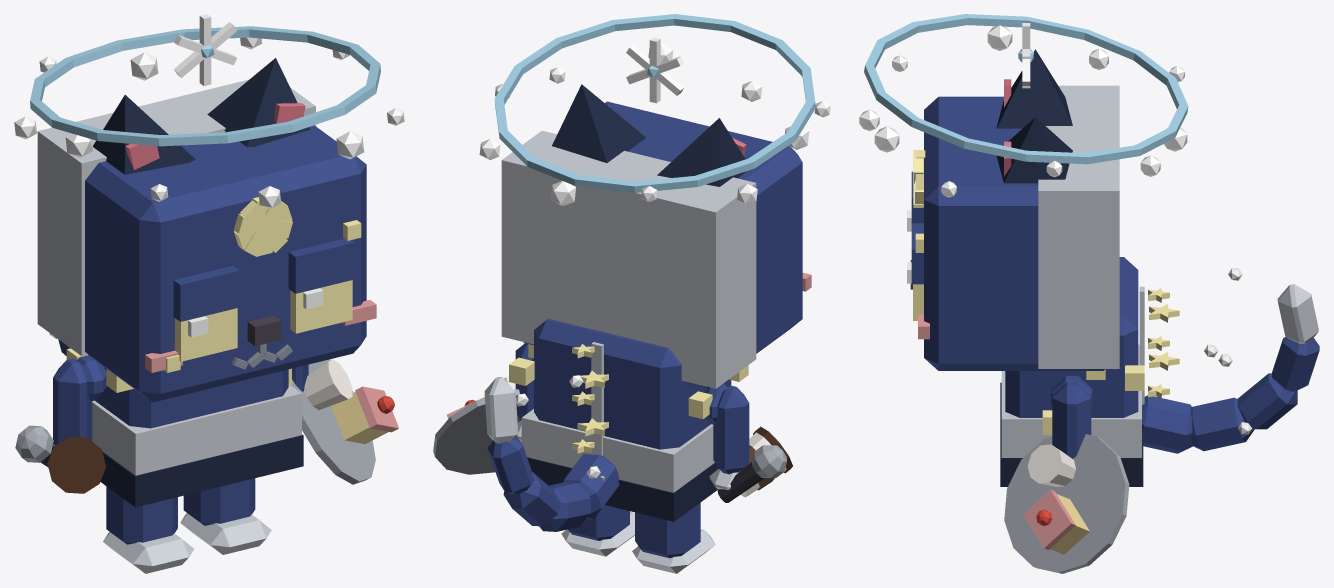
Rendered from CatCafe_Cat_SilentNight_Work.fbx.
3 views of the same model, side by side, from view 1: azimuth 30°, elevation 25°; view 2: azimuth 150°, elevation 25°; view 3: azimuth 270°, elevation 25° (orthographic). The views are drawn at different scales.
Parts seen in each view (by area): view 1: CatCafe_Cat_SilentNight_Work_Head, CatCafe_Cat_SilentNight_Work_Body, CatCafe_Cat_SilentNight_Work_Glow, CatCafe_Cat_SilentNight_Work_Held_Waiter, CatCafe_Cat_SilentNight_Work_Eye1, CatCafe_Cat_SilentNight_Work_Eye2, CatCafe_Cat_SilentNight_Work_LegB2, CatCafe_Cat_SilentNight_Work_LegB1, CatCafe_Cat_SilentNight_Work_EarL, CatCafe_Cat_SilentNight_Work_EarR, CatCafe_Cat_SilentNight_Work_LegF2, CatCafe_Cat_SilentNight_Work_Held_Barista (+2 smaller); view 2: CatCafe_Cat_SilentNight_Work_Head, CatCafe_Cat_SilentNight_Work_Body, CatCafe_Cat_SilentNight_Work_Glow, CatCafe_Cat_SilentNight_Work_Tail, CatCafe_Cat_SilentNight_Work_EarL, CatCafe_Cat_SilentNight_Work_LegB2, CatCafe_Cat_SilentNight_Work_Held_Waiter, CatCafe_Cat_SilentNight_Work_LegF2, CatCafe_Cat_SilentNight_Work_EarR, CatCafe_Cat_SilentNight_Work_LegB1, CatCafe_Cat_SilentNight_Work_Stars_Glow, CatCafe_Cat_SilentNight_Work_Held_Entertainer (+4 smaller); view 3: CatCafe_Cat_SilentNight_Work_Head, CatCafe_Cat_SilentNight_Work_Held_Waiter, CatCafe_Cat_SilentNight_Work_Body, CatCafe_Cat_SilentNight_Work_Glow, CatCafe_Cat_SilentNight_Work_Tail, CatCafe_Cat_SilentNight_Work_EarR, CatCafe_Cat_SilentNight_Work_EarL, CatCafe_Cat_SilentNight_Work_LegF1, CatCafe_Cat_SilentNight_Work_Stars_Glow, CatCafe_Cat_SilentNight_Work_Prop, CatCafe_Cat_SilentNight_Work_Eye1.
Part boxes in pixels (box(x1,y1,x2,y2)): CatCafe_Cat_SilentNight_Work_Head: box(37, 79, 376, 402); CatCafe_Cat_SilentNight_Work_Body: box(66, 348, 303, 507); CatCafe_Cat_SilentNight_Work_Glow: box(30, 14, 404, 208); CatCafe_Cat_SilentNight_Work_Held_Waiter: box(291, 359, 398, 484); CatCafe_Cat_SilentNight_Work_Eye1: box(288, 238, 354, 333); CatCafe_Cat_SilentNight_Work_Eye2: box(173, 266, 239, 361); CatCafe_Cat_SilentNight_Work_LegB2: box(103, 486, 193, 573); CatCafe_Cat_SilentNight_Work_LegB1: box(180, 478, 271, 554); CatCafe_Cat_SilentNight_Work_EarL: box(207, 58, 310, 147); CatCafe_Cat_SilentNight_Work_EarR: box(93, 94, 195, 174); CatCafe_Cat_SilentNight_Work_LegF2: box(53, 358, 92, 445); CatCafe_Cat_SilentNight_Work_Held_Barista: box(47, 436, 106, 493); CatCafe_Cat_SilentNight_Work_Head: box(501, 101, 811, 388); CatCafe_Cat_SilentNight_Work_Body: box(509, 318, 748, 521); CatCafe_Cat_SilentNight_Work_Glow: box(479, 14, 815, 202); CatCafe_Cat_SilentNight_Work_Tail: box(484, 377, 619, 531); CatCafe_Cat_SilentNight_Work_EarL: box(552, 84, 645, 162); CatCafe_Cat_SilentNight_Work_LegB2: box(632, 502, 715, 573); CatCafe_Cat_SilentNight_Work_Held_Waiter: box(433, 376, 520, 474); CatCafe_Cat_SilentNight_Work_LegF2: box(709, 385, 749, 489); CatCafe_Cat_SilentNight_Work_EarR: box(657, 118, 746, 186); CatCafe_Cat_SilentNight_Work_LegB1: box(561, 505, 634, 556); CatCafe_Cat_SilentNight_Work_Stars_Glow: box(516, 344, 608, 480); CatCafe_Cat_SilentNight_Work_Held_Entertainer: box(717, 445, 786, 502); CatCafe_Cat_SilentNight_Work_Head: box(910, 85, 1119, 370); CatCafe_Cat_SilentNight_Work_Held_Waiter: box(1004, 434, 1129, 573); CatCafe_Cat_SilentNight_Work_Body: box(1000, 257, 1144, 486); CatCafe_Cat_SilentNight_Work_Glow: box(859, 14, 1188, 197); CatCafe_Cat_SilentNight_Work_Tail: box(1142, 284, 1319, 453); CatCafe_Cat_SilentNight_Work_EarR: box(996, 49, 1072, 128); CatCafe_Cat_SilentNight_Work_EarL: box(996, 117, 1072, 183); CatCafe_Cat_SilentNight_Work_LegF1: box(1052, 382, 1091, 458); CatCafe_Cat_SilentNight_Work_Stars_Glow: box(1148, 268, 1251, 434); CatCafe_Cat_SilentNight_Work_Prop: box(874, 49, 1187, 177); CatCafe_Cat_SilentNight_Work_Eye1: box(907, 223, 923, 320).
Bounding box in the file's own units: 1.53 × 2.18 × 1.8.
1 material, 1 textured.
